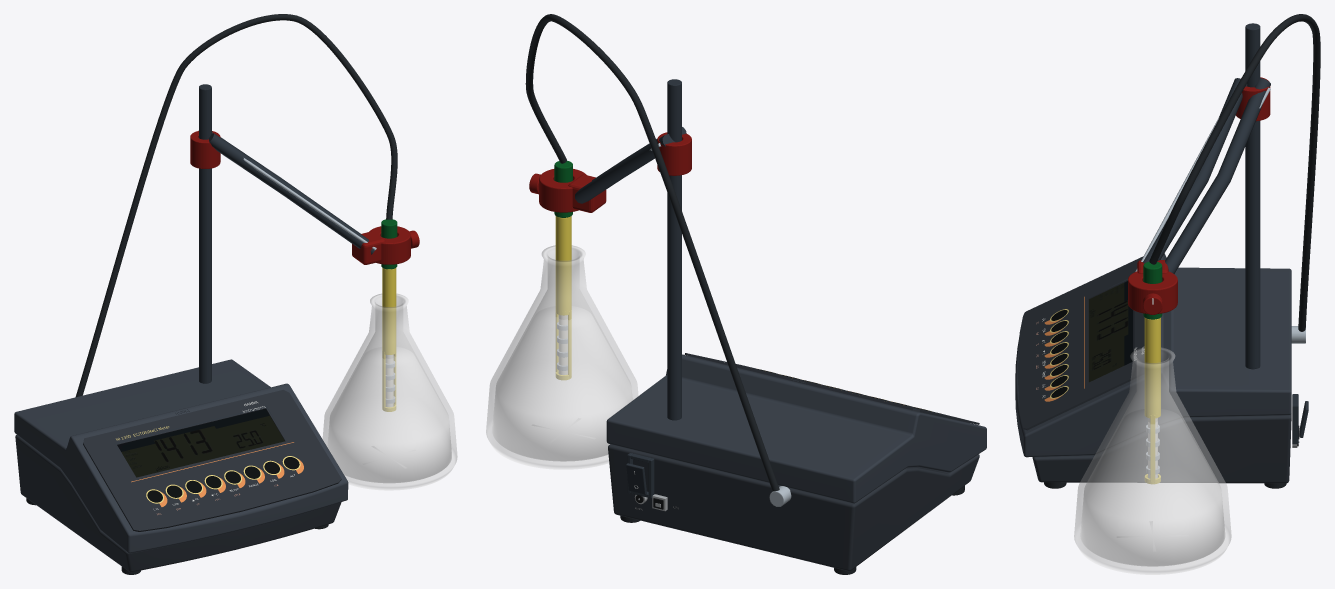
The model's file is INS0043.glb.
The picture shows the model from 3 angles, left to right: view 1: azimuth 30°, elevation 25°; view 2: azimuth 150°, elevation 25°; view 3: azimuth 270°, elevation 25°; orthographic projection. The views are drawn at different scales.
Parts seen in each view (by area): view 1: INS0043__upper_shell, INS0043__flask_glass, INS0043__front_console, INS0043__meter_housing, INS0043__flask_solution, INS0043__probe_cable, INS0043__arm_post, INS0043__hi2300_lcd__page, INS0043__parallel_arm_-1, INS0043__hi2300_lcd__readout_conductivity_us_cm, INS0043__probe_yellow_shaft, INS0043__conductivity_display_surface (+4 smaller); view 2: INS0043__upper_shell, INS0043__meter_housing, INS0043__flask_glass, INS0043__flask_solution, INS0043__probe_cable, INS0043__arm_post, INS0043__probe_yellow_shaft, INS0043__parallel_arm_1, INS0043__single_red_probe_holder, INS0043__front_console, INS0043__arm_post_sleeve, INS0043__red_holder_arm; view 3: INS0043__upper_shell, INS0043__flask_glass, INS0043__meter_housing, INS0043__flask_solution, INS0043__front_console, INS0043__probe_cable, INS0043__arm_post, INS0043__parallel_arm_1, INS0043__hi2300_lcd__page, INS0043__parallel_arm_-1, INS0043__probe_yellow_shaft, INS0043__single_red_probe_holder (+5 smaller).
Boxes of the visible parts, left/top/right/bottom form: INS0043__upper_shell: left=14, top=359, right=348, bottom=553; INS0043__flask_glass: left=323, top=294, right=457, bottom=490; INS0043__front_console: left=83, top=389, right=341, bottom=531; INS0043__meter_housing: left=15, top=435, right=341, bottom=572; INS0043__flask_solution: left=328, top=347, right=450, bottom=482; INS0043__probe_cable: left=75, top=14, right=397, bottom=397; INS0043__arm_post: left=199, top=84, right=211, bottom=383; INS0043__hi2300_lcd__page: left=121, top=415, right=284, bottom=477; INS0043__parallel_arm_-1: left=209, top=133, right=374, bottom=254; INS0043__hi2300_lcd__readout_conductivity_us_cm: left=154, top=426, right=226, bottom=462; INS0043__probe_yellow_shaft: left=382, top=268, right=396, bottom=352; INS0043__conductivity_display_surface: left=117, top=409, right=269, bottom=451; INS0043__upper_shell: left=606, top=354, right=986, bottom=503; INS0043__meter_housing: left=608, top=444, right=979, bottom=571; INS0043__flask_glass: left=486, top=245, right=638, bottom=469; INS0043__flask_solution: left=494, top=306, right=631, bottom=461; INS0043__probe_cable: left=525, top=14, right=779, bottom=491; INS0043__arm_post: left=667, top=79, right=681, bottom=420; INS0043__probe_yellow_shaft: left=555, top=216, right=571, bottom=312; INS0043__parallel_arm_1: left=575, top=134, right=674, bottom=203; INS0043__single_red_probe_holder: left=539, top=169, right=586, bottom=212; INS0043__front_console: left=684, top=353, right=979, bottom=424; INS0043__arm_post_sleeve: left=657, top=132, right=691, bottom=175; INS0043__red_holder_arm: left=568, top=174, right=606, bottom=212; INS0043__upper_shell: left=1015, top=253, right=1291, bottom=457; INS0043__flask_glass: left=1074, top=347, right=1231, bottom=574; INS0043__meter_housing: left=1032, top=414, right=1291, bottom=483; INS0043__flask_solution: left=1082, top=409, right=1223, bottom=566; INS0043__front_console: left=1017, top=256, right=1144, bottom=430; INS0043__probe_cable: left=1149, top=14, right=1320, bottom=331; INS0043__arm_post: left=1245, top=23, right=1260, bottom=369; INS0043__parallel_arm_1: left=1165, top=78, right=1270, bottom=273; INS0043__hi2300_lcd__page: left=1088, top=283, right=1124, bottom=382; INS0043__parallel_arm_-1: left=1143, top=78, right=1247, bottom=263; INS0043__probe_yellow_shaft: left=1144, top=317, right=1160, bottom=415; INS0043__single_red_probe_holder: left=1128, top=271, right=1177, bottom=313.
Bounding box in the file's own units: 0.4005 × 0.4336 × 0.2442.
24 materials, 2 textured.
